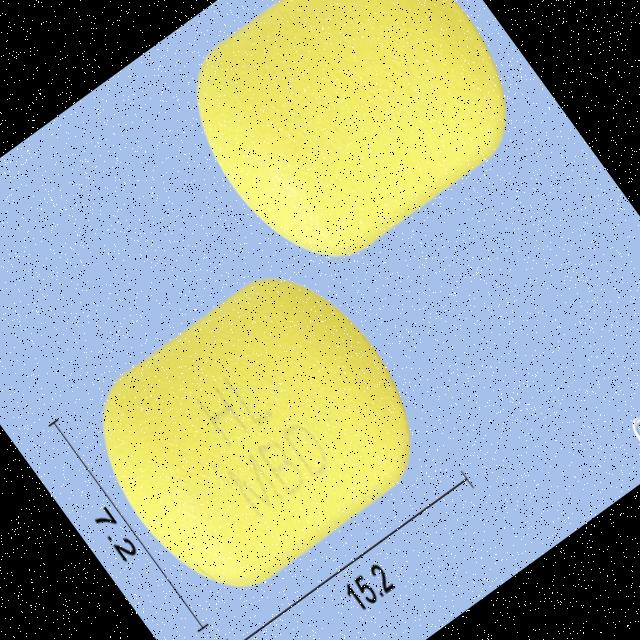Mabid -500mg: (67, 248, 448, 620)
